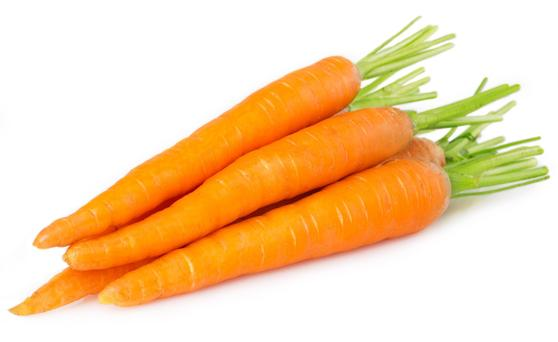carrot: (32, 52, 369, 254), (69, 107, 427, 269), (99, 149, 451, 312)
